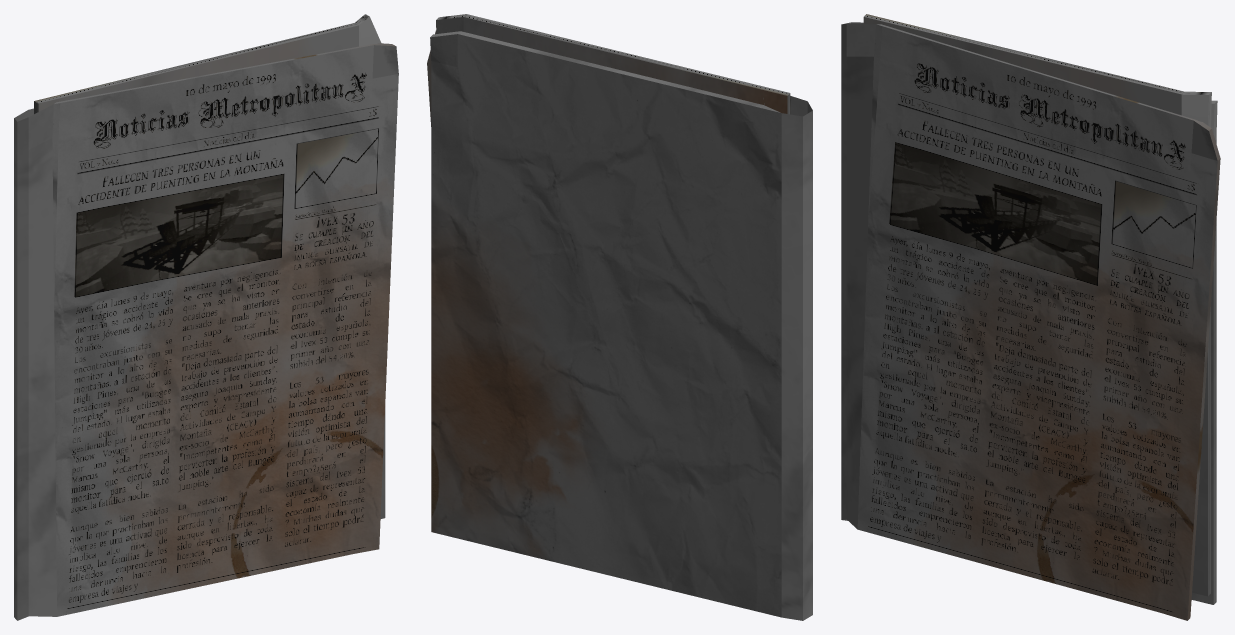
File: periodico.fbx
3 renders of one model, left to right at view 1: azimuth 30°, elevation 25°; view 2: azimuth 150°, elevation 25°; view 3: azimuth 330°, elevation 25°, orthographic.
Parts seen in each view (by area): view 1: Cube; view 2: Cube; view 3: Cube.
Part boxes in pixels (x1=…): Cube: x1=14, y1=14, x2=398, y2=620; Cube: x1=427, y1=14, x2=812, y2=620; Cube: x1=841, y1=14, x2=1220, y2=620.
Size of the model in its own units: 219 by 288 by 29.91.
